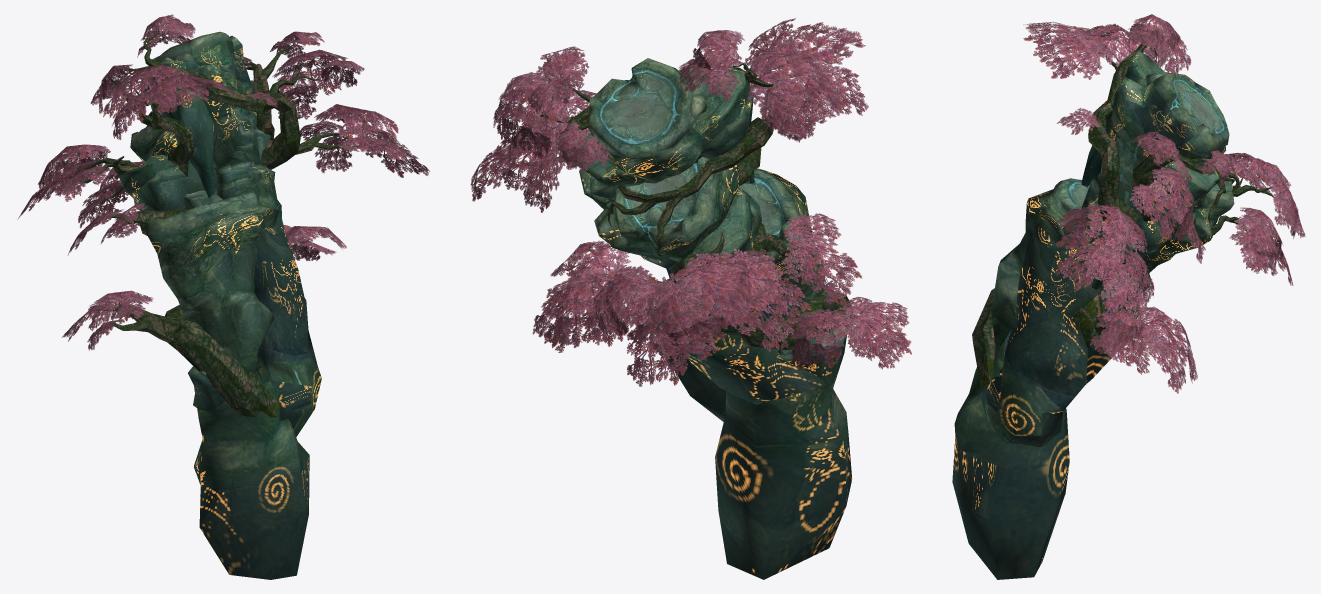
File: Sky_mountain_02.glb
The picture shows the model from 3 angles, left to right: view 1: azimuth 30°, elevation 25°; view 2: azimuth 150°, elevation 25°; view 3: azimuth 270°, elevation 25°; orthographic projection. The views are drawn at different scales.
Parts seen in each view (by area): view 1: Stone_mountain_02; view 2: Stone_mountain_02; view 3: Stone_mountain_02.
Boxes of the visible parts, x1,y1,x2,y2 form: Stone_mountain_02: [17, 14, 429, 579]; Stone_mountain_02: [470, 18, 911, 579]; Stone_mountain_02: [952, 14, 1305, 579].
Size of what is drawn, in the model's own units: 5.86 by 7.67 by 4.58.
3 materials, 3 textured.
